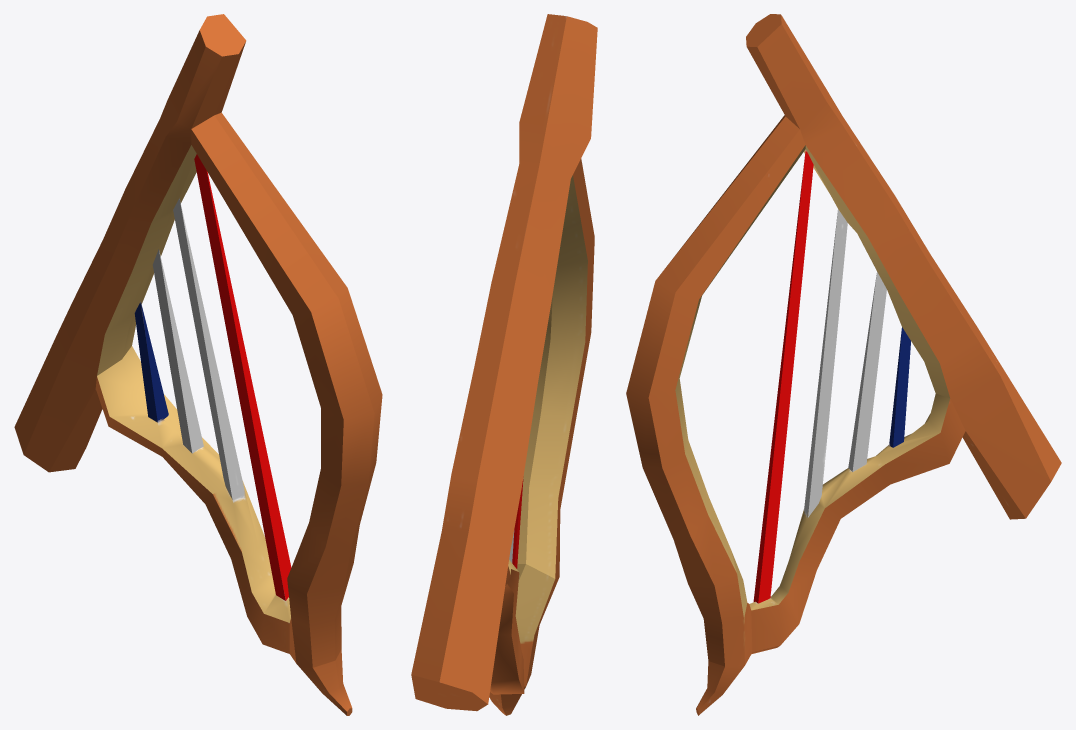
Rendered from Arpa3_000018.obj.
The picture shows the model from 3 angles, left to right: view 1: azimuth 30°, elevation 25°; view 2: azimuth 150°, elevation 25°; view 3: azimuth 270°, elevation 25°; orthographic projection. The views are drawn at different scales.
Parts seen in each view (by area): view 1: a3_Arpa_1:pCube6; view 2: a3_Arpa_1:pCube6; view 3: a3_Arpa_1:pCube6.
Boxes of the visible parts, x1=… form: a3_Arpa_1:pCube6: x1=14, y1=14, x2=382, y2=715; a3_Arpa_1:pCube6: x1=411, y1=14, x2=597, y2=715; a3_Arpa_1:pCube6: x1=626, y1=14, x2=1061, y2=715.
Size of the model in its own units: 2.54 by 10 by 6.02.
